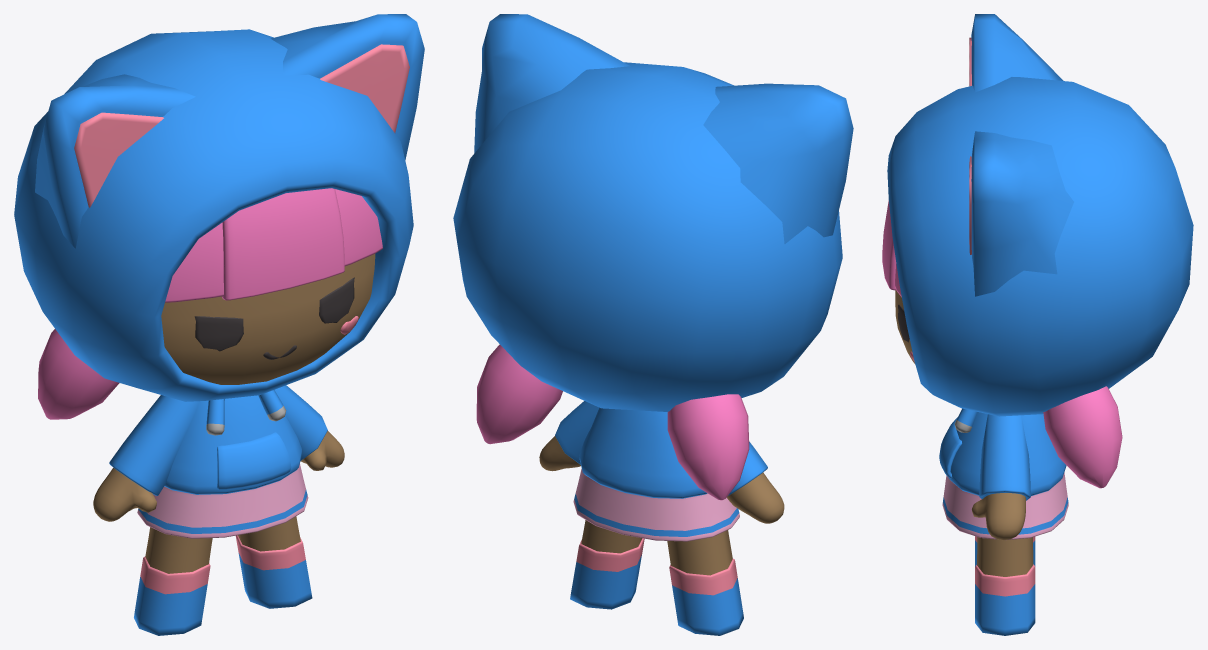
Rendered from ChopperFan_AYK.fbx.
3 renders of one model, left to right at view 1: azimuth 30°, elevation 25°; view 2: azimuth 150°, elevation 25°; view 3: azimuth 270°, elevation 25°, orthographic. The views are drawn at different scales.
Visible parts, largest first — view 1: SD_head_hoodie, SD_head_hair, SD_head_face, SD_body_upper, SD_body_skirt, SD_body_arm_R, SD_body_leg_R, SD_body_leg_L, SD_head_tailhair_R, SD_body_arm_L, SD_head_eyes, SD_body_strap_R; view 2: SD_head_hoodie, SD_body_upper, SD_body_skirt, SD_head_tailhair_R, SD_body_leg_R, SD_head_tailhair_L, SD_body_leg_L, SD_body_arm_R, SD_body_arm_L; view 3: SD_head_hoodie, SD_body_leg_L, SD_body_arm_L, SD_head_tailhair_L, SD_body_upper, SD_body_skirt, SD_head_hair.
Part boxes in pixels (x1,y1,x2,y2): SD_head_hoodie: (14, 14, 424, 401); SD_head_hair: (165, 188, 382, 302); SD_head_face: (161, 254, 375, 384); SD_body_upper: (164, 395, 301, 494); SD_body_skirt: (137, 464, 308, 538); SD_body_arm_R: (93, 395, 199, 521); SD_body_leg_R: (134, 527, 212, 635); SD_body_leg_L: (235, 516, 312, 608); SD_head_tailhair_R: (38, 329, 119, 419); SD_body_arm_L: (275, 385, 344, 470); SD_head_eyes: (194, 277, 354, 351); SD_body_strap_R: (206, 399, 224, 435); SD_head_hoodie: (453, 14, 853, 411); SD_body_upper: (579, 407, 707, 498); SD_body_skirt: (573, 469, 739, 541); SD_head_tailhair_R: (667, 394, 749, 500); SD_body_leg_R: (667, 530, 743, 635); SD_head_tailhair_L: (476, 344, 562, 444); SD_body_leg_L: (570, 520, 644, 609); SD_body_arm_R: (727, 442, 784, 523); SD_body_arm_L: (539, 401, 599, 471); SD_head_hoodie: (887, 14, 1193, 416); SD_body_leg_L: (975, 537, 1035, 635); SD_body_arm_L: (972, 414, 1030, 540); SD_head_tailhair_L: (1043, 386, 1122, 488); SD_body_upper: (939, 412, 1066, 495); SD_body_skirt: (942, 472, 1068, 540); SD_head_hair: (882, 200, 901, 297).
Bounding box in the file's own units: 56.61 × 82.01 × 45.19.
